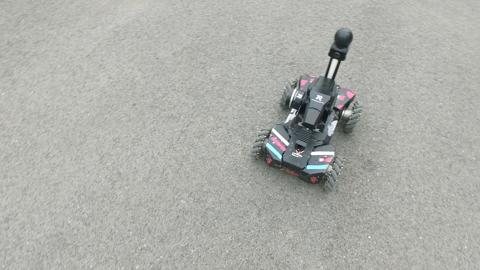chariot: (250, 27, 362, 194)
